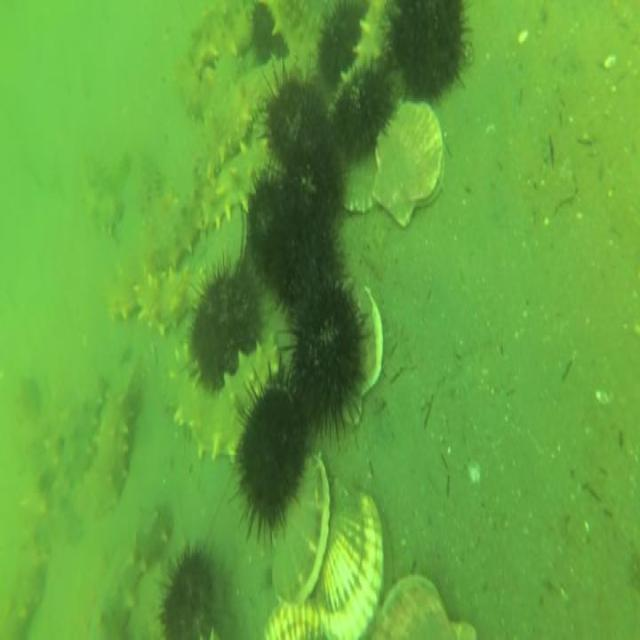echinus: (233, 379, 310, 533), (291, 281, 360, 433), (193, 265, 260, 389), (394, 0, 468, 101), (278, 230, 342, 328), (250, 166, 300, 291), (266, 71, 327, 171), (159, 539, 219, 640), (280, 150, 342, 240), (332, 70, 393, 158), (318, 0, 366, 90), (251, 0, 287, 63)
holothurian: (0, 373, 58, 635), (74, 499, 180, 640), (167, 340, 283, 464), (104, 190, 196, 326), (82, 344, 146, 522), (200, 62, 291, 177), (194, 134, 276, 239), (49, 368, 105, 512), (133, 260, 210, 340), (188, 0, 254, 76), (77, 147, 126, 239), (265, 0, 327, 58), (347, 0, 394, 74), (176, 54, 215, 118)
scallop: (320, 477, 388, 640), (268, 449, 332, 610), (375, 100, 449, 232), (372, 570, 478, 640), (340, 276, 386, 426), (257, 600, 347, 640), (336, 150, 382, 215)
